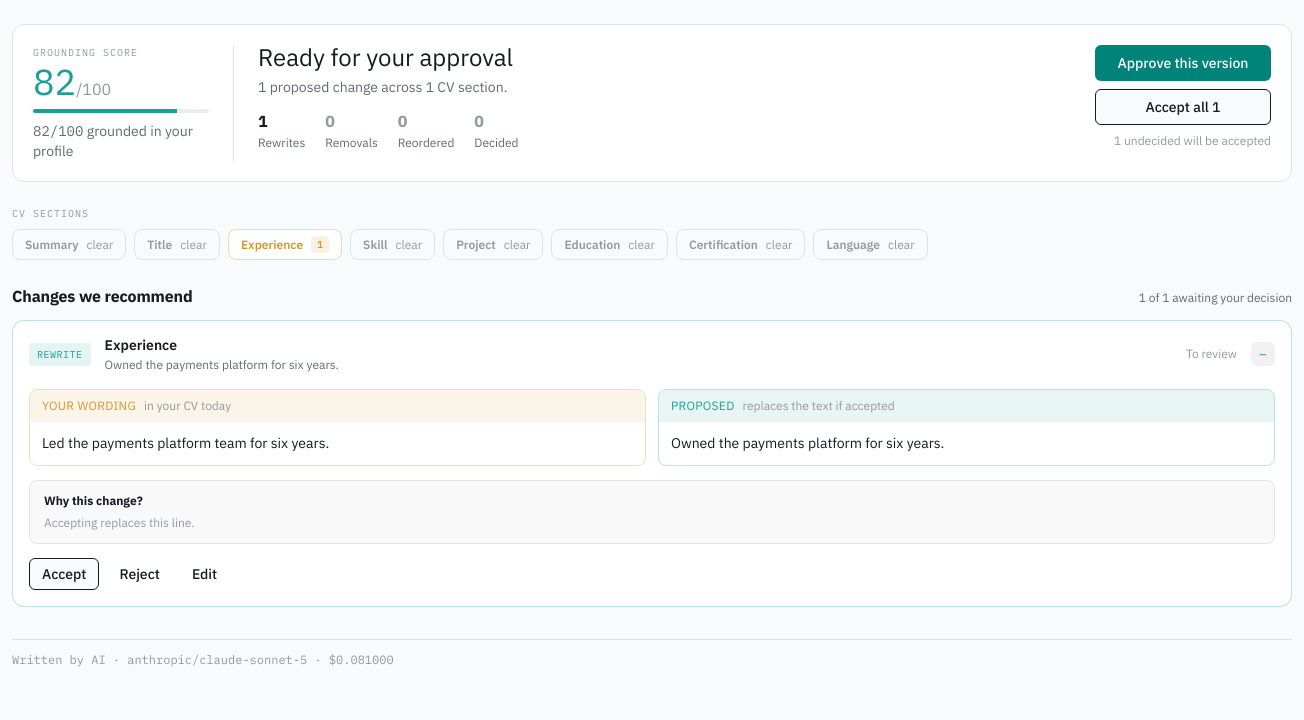
Scenario: deciding one proposal › an edit is stored as the owner's words, distinguishable from both
Step 1. Click the button "Edit" → [205, 574], box [180,558,229,590]
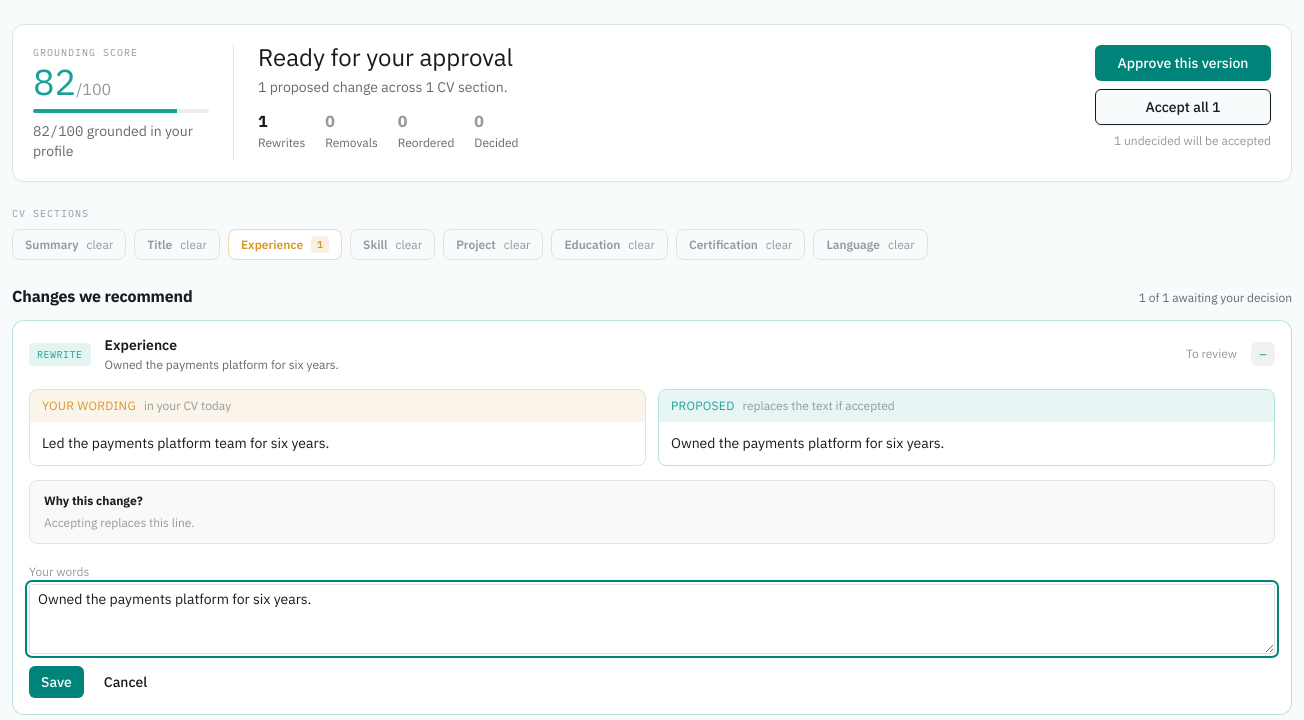
Step 2. Replace the text in the text box named "edit experience" with "My own wording." → [652, 619], box [29,584,1275,654]
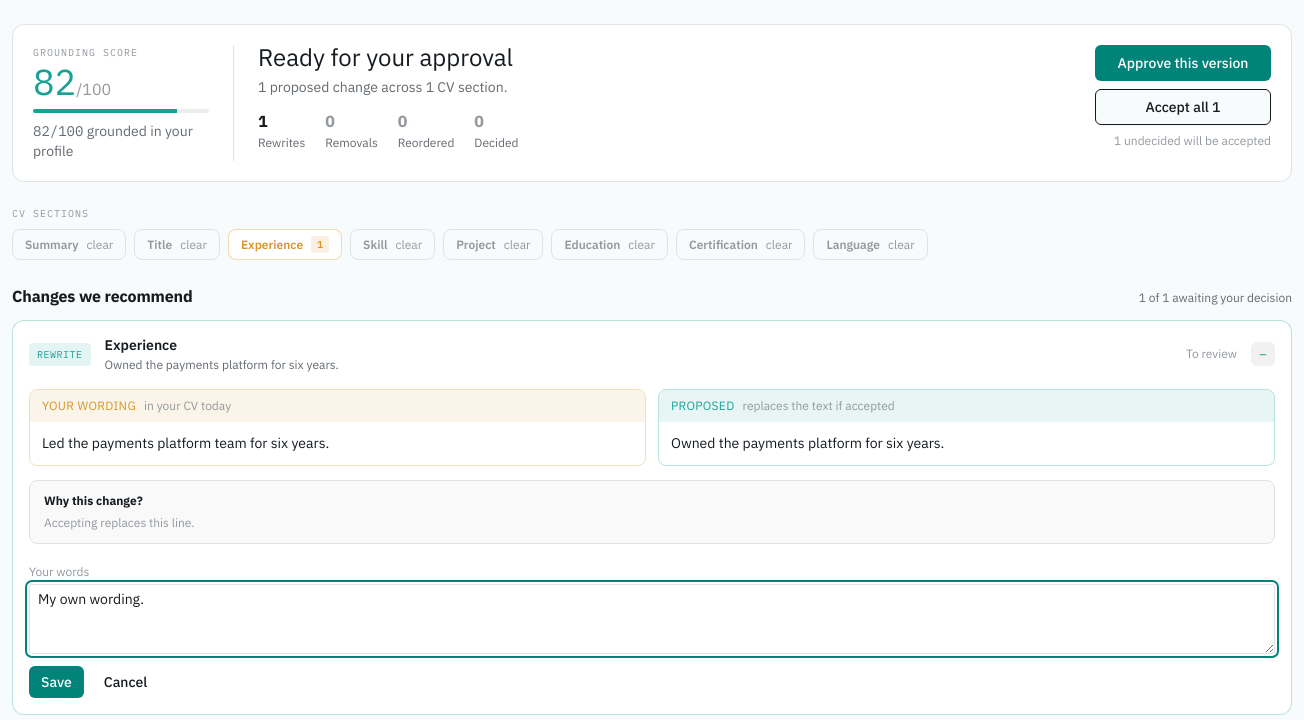
Step 3. Click the button "Save" → [56, 682], box [29,666,84,698]
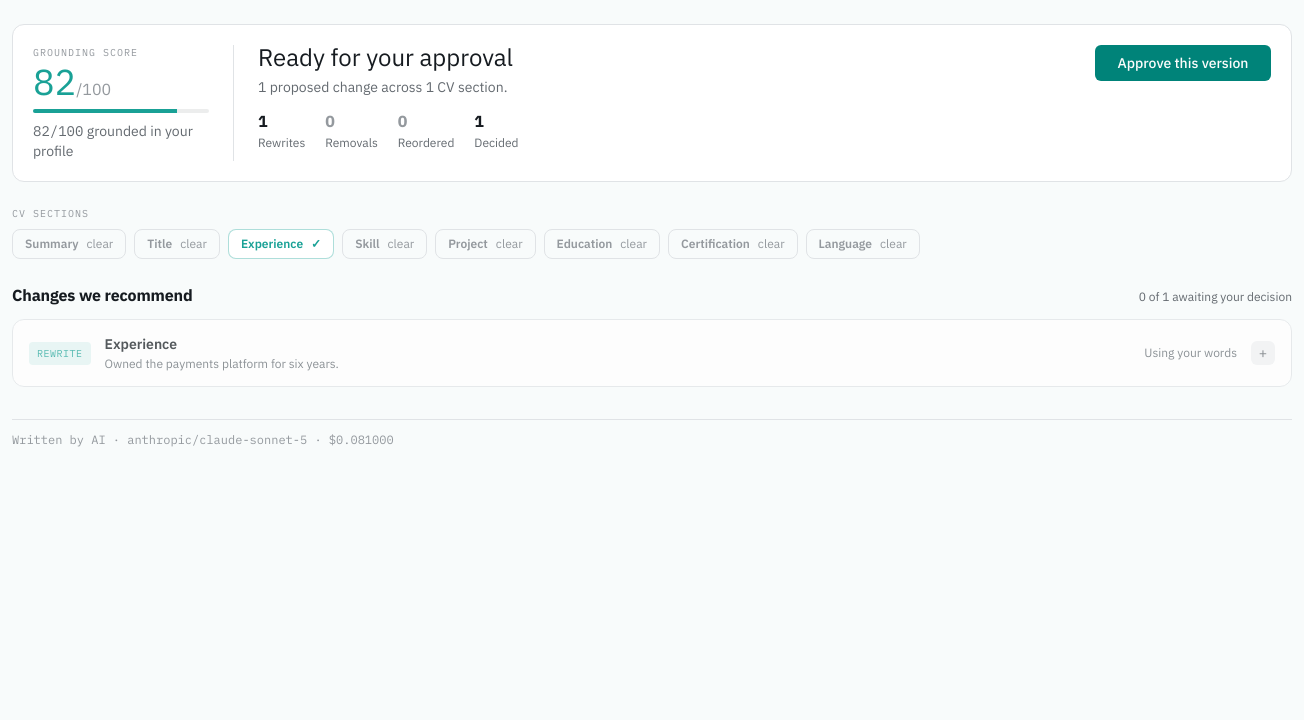
Expected: the text with test id "decision-label" shows "your words", [1144,345,1237,360]
